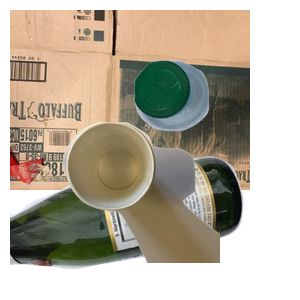cardboard: (10, 10, 250, 190)
glass: (10, 154, 246, 300)
plastic: (132, 58, 300, 182)
trash: (60, 120, 300, 300)
